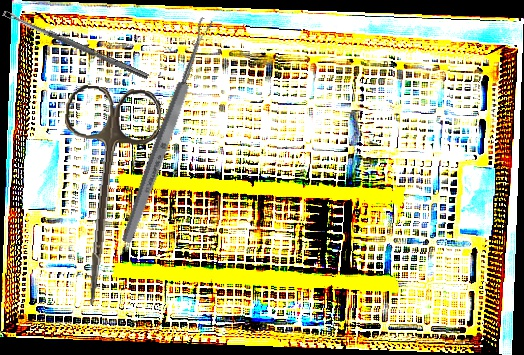Iris Scissors: (49, 83, 163, 310)
Surgical Spoon: (118, 16, 216, 245), (2, 9, 150, 80)
